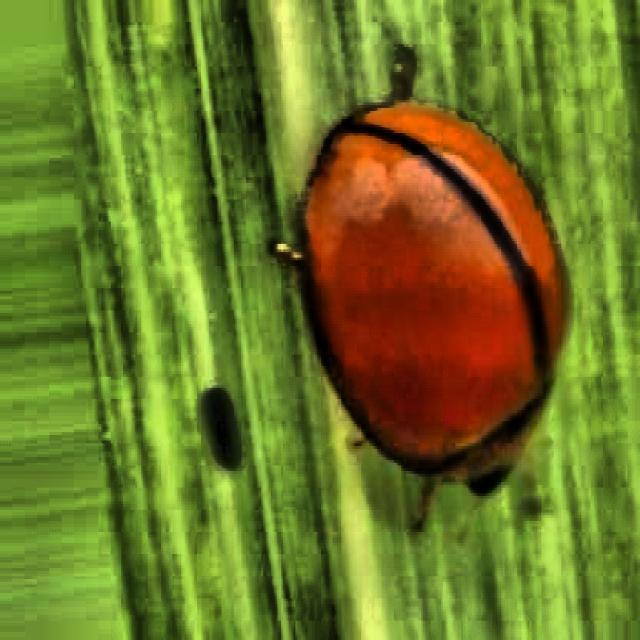Ladybug: (246, 20, 606, 582)
